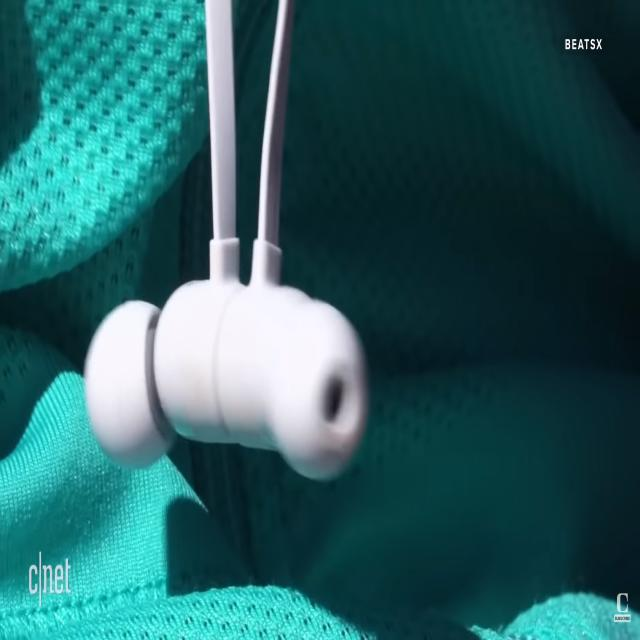Earphone: (82, 0, 371, 484)
